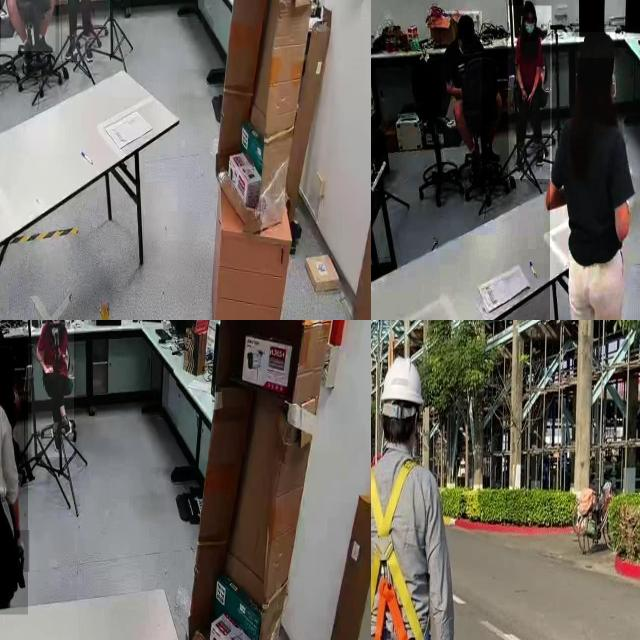Harness: (371, 460, 425, 640), (375, 578, 410, 640)
face_mask: (523, 17, 537, 42)
hand_glove: (8, 530, 30, 573)
hand_noglove: (520, 88, 528, 104), (44, 364, 54, 374), (527, 92, 533, 108)
head_nohelmet: (578, 30, 616, 59), (456, 14, 474, 40), (522, 0, 536, 14)
person: (550, 32, 640, 320), (0, 329, 28, 615), (508, 6, 552, 180), (442, 11, 482, 169), (31, 320, 74, 458), (59, 0, 110, 61), (1, 0, 56, 52)
shoes: (49, 420, 62, 455), (60, 411, 74, 438)
